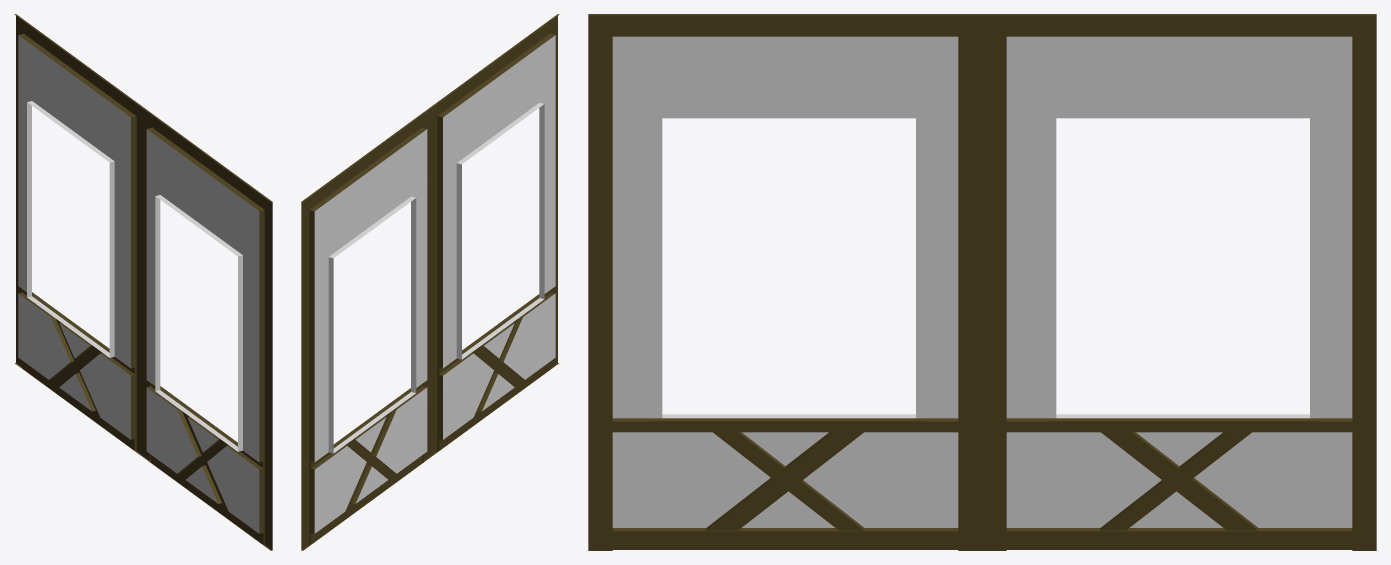
The model's file is GB_TwoWindows.fbx.
The picture shows the model from 3 angles, left to right: view 1: azimuth 30°, elevation 25°; view 2: azimuth 150°, elevation 25°; view 3: azimuth 270°, elevation 25°; orthographic projection. The views are drawn at different scales.
Parts seen in each view (by area): view 1: Wall_TwoWindows4; view 2: Wall_TwoWindows4; view 3: Wall_TwoWindows4.
Part boxes in pixels (x1,y1,x2,y2): Wall_TwoWindows4: [14, 14, 272, 550]; Wall_TwoWindows4: [301, 14, 559, 550]; Wall_TwoWindows4: [588, 14, 1376, 550].
Size of the model in its own units: 0.0961 by 3 by 4.
